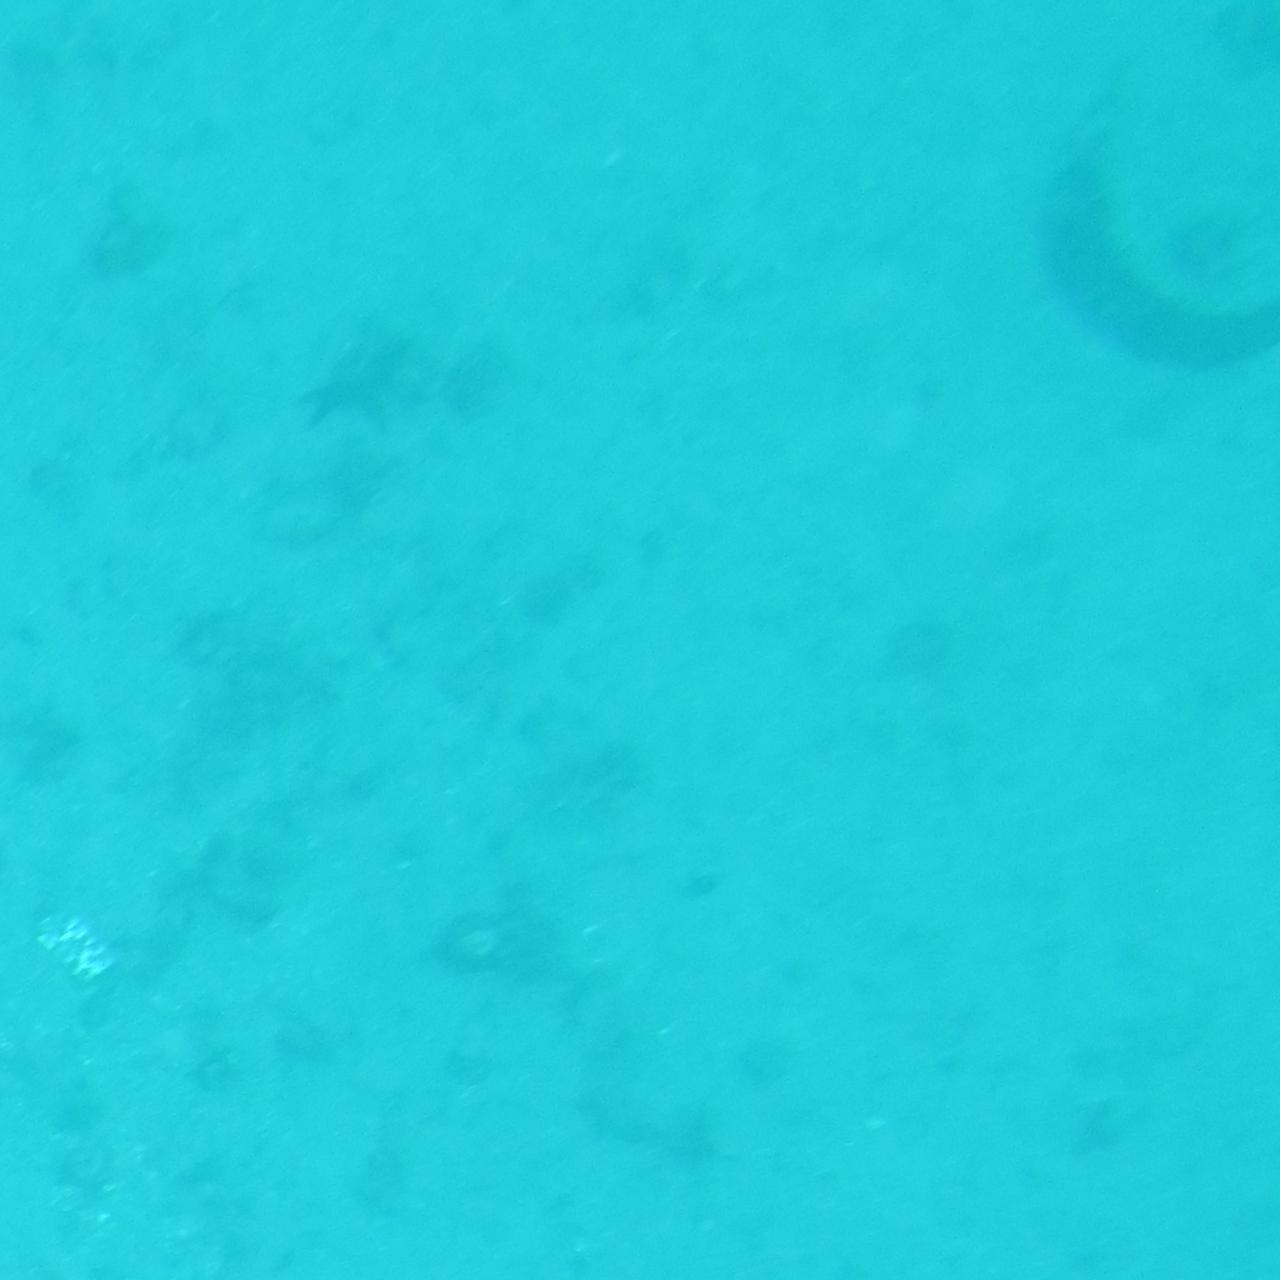Holothuria tubulosa: (1055, 149, 1276, 365)
